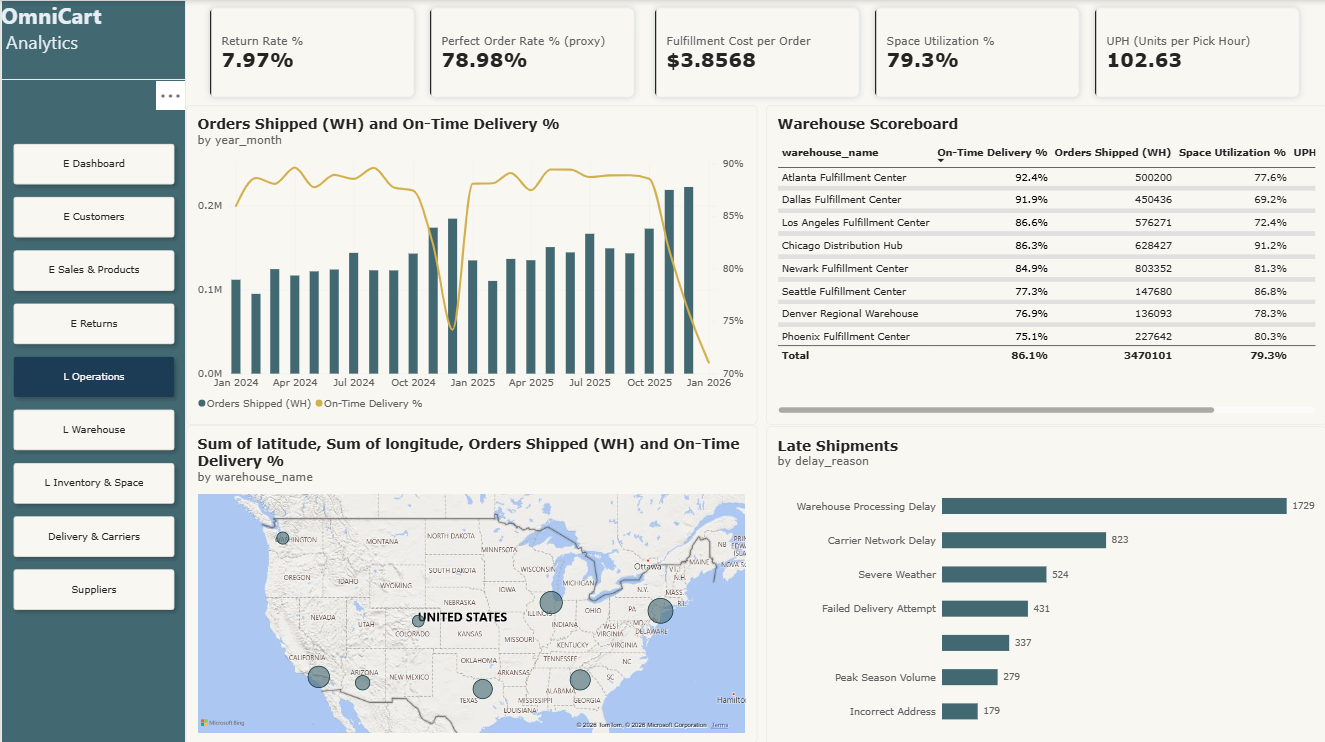

What the dashboard file says about the page in this screenshot:
{"tool":"powerbi","page":{"name":"L Operations","canvas":[1920,1080],"ordinal":4},"visuals":[{"type":"shape","box":[0,0,267.6,1080.6],"z":0,"group":"g1"},{"type":"textbox","box":[0,0,267.8,115.8],"z":0},{"type":"textbox","box":[0,0,267.8,115.8],"z":1000,"group":"g1"},{"type":"textbox","box":[14.5,166.5,202.7,32.6],"z":1000},{"type":"group","id":"g1","title":"Group 1","box":[0,0,267.8,1080.6],"z":2000},{"type":"pageNavigator","box":[9,199.1,251.5,698.5],"z":3000},{"type":"cardVisual","fields":{"Data":["_Measures.Return Rate %"]},"box":[291.4,0,318.5,152],"z":4000},{"type":"cardVisual","fields":{"Data":["_Measures.UPH (Units per Pick Hour)"]},"box":[1572.6,0,318.5,152],"z":5000},{"type":"cardVisual","fields":{"Data":["_Measures.Perfect Order Rate % (proxy)"]},"box":[609.9,0,318.5,152],"z":6000},{"type":"cardVisual","fields":{"Data":["_Measures.Space Utilization %"]},"box":[1254.1,0,318.5,152],"z":7000},{"type":"cardVisual","fields":{"Data":["_Measures.Fulfillment Cost per Order"]},"box":[935.6,0,318.5,152],"z":8000},{"type":"map","fields":{"Category":["dim_warehouse.warehouse_name"],"Size":["_Measures.Orders Shipped (WH)"],"X":["Sum(dim_warehouse.longitude)"],"Y":["Sum(dim_warehouse.latitude)"]},"box":[267.6,615.4,827.4,463.1],"z":9000},{"type":"lineClusteredColumnComboChart","fields":{"Category":["dim_date.year_month"],"Y":["_Measures.Orders Shipped (WH)"],"Y2":["_Measures.On-Time Delivery %"]},"box":[267.6,152.3,827.4,463.1],"z":10000},{"type":"tableEx","title":"Warehouse Scoreboard","fields":{"Values":["dim_warehouse.warehouse_name","_Measures.On-Time Delivery %","_Measures.Orders Shipped (WH)","_Measures.Space Utilization %","_Measures.UPH (Units per Pick Hour)"]},"box":[1107.5,152,812.5,463.3],"z":11000},{"type":"barChart","fields":{"Category":["fact_shipments.delay_reason"],"Y":["_Measures.Late Shipments"]},"box":[1108,617,812,463],"z":12000}]}

Visuals, with their boxes on the page's 1920x1080 design canvas (x1, y1, x2, y2). These are canvas units, not pixel positions in the 1325x742 screenshot, which may show the page scaled, cropped or inside an application window:
shape: 0, 0, 268, 1081
textbox: 0, 0, 268, 116
textbox: 0, 0, 268, 116
textbox: 14, 166, 217, 199
"Group 1" group: 0, 0, 268, 1081
pageNavigator: 9, 199, 260, 898
cardVisual - _Measures.Return Rate %: 291, 0, 610, 152
cardVisual - _Measures.UPH (Units per Pick Hour): 1573, 0, 1891, 152
cardVisual - _Measures.Perfect Order Rate % (proxy): 610, 0, 928, 152
cardVisual - _Measures.Space Utilization %: 1254, 0, 1573, 152
cardVisual - _Measures.Fulfillment Cost per Order: 936, 0, 1254, 152
map - dim_warehouse.warehouse_name x _Measures.Orders Shipped (WH): 268, 615, 1095, 1078
lineClusteredColumnComboChart - dim_date.year_month x _Measures.Orders Shipped (WH): 268, 152, 1095, 615
"Warehouse Scoreboard" tableEx: 1108, 152, 1920, 615
barChart - fact_shipments.delay_reason x _Measures.Late Shipments: 1108, 617, 1920, 1080
